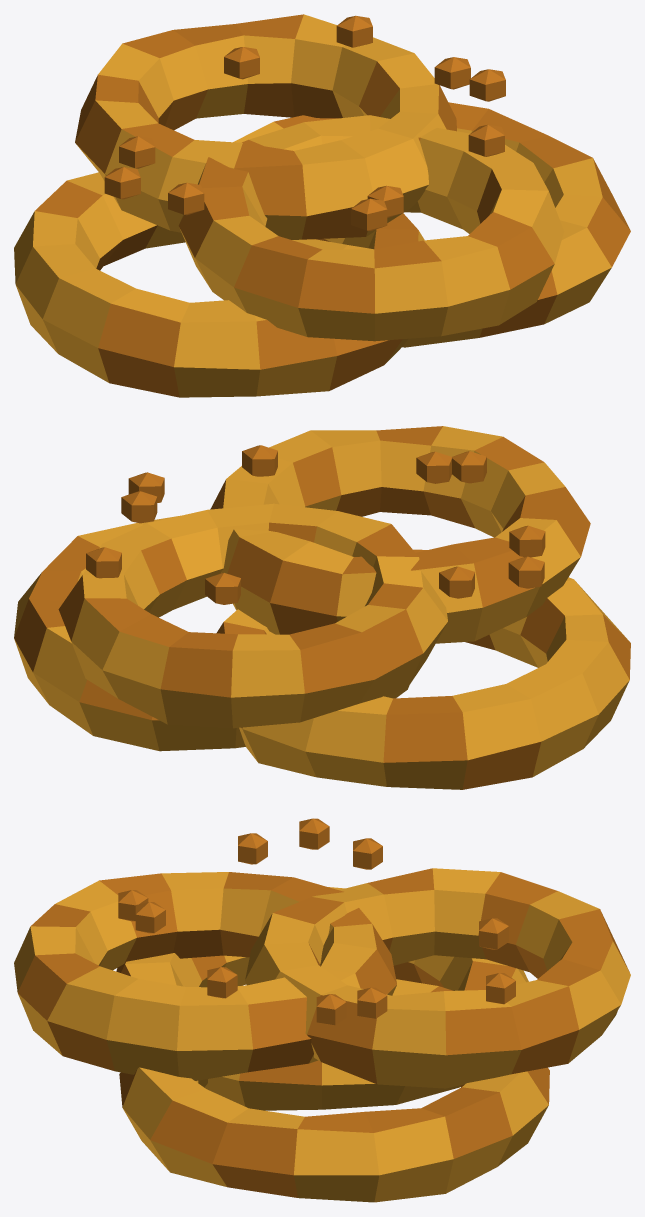
File: onion_rings.glb
3 views of the same model, one above another, from view 1: azimuth 30°, elevation 25°; view 2: azimuth 150°, elevation 25°; view 3: azimuth 270°, elevation 25° (orthographic). The views are drawn at different scales.
Visible parts, largest first — view 1: OnionRings; view 2: OnionRings; view 3: OnionRings.
Boxes of the visible parts, bbox=[...] form: OnionRings: bbox=[14, 14, 630, 397]; OnionRings: bbox=[14, 426, 630, 789]; OnionRings: bbox=[14, 818, 630, 1202].
Bounding box in the file's own units: 2.6 × 0.8 × 2.6.
